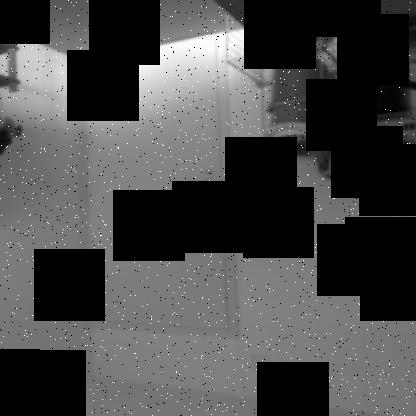Porte: (84, 30, 239, 340)
